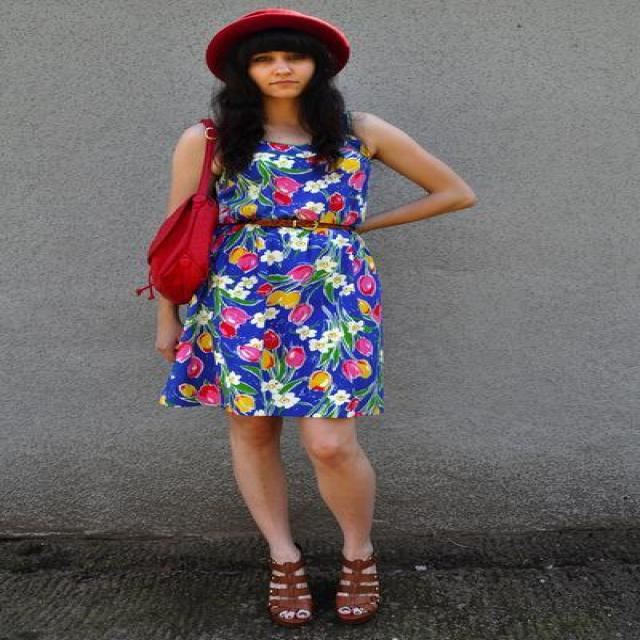bag: (144, 115, 232, 318)
dress: (162, 119, 382, 432)
hat: (206, 14, 344, 77)
shoe: (268, 559, 378, 600)
